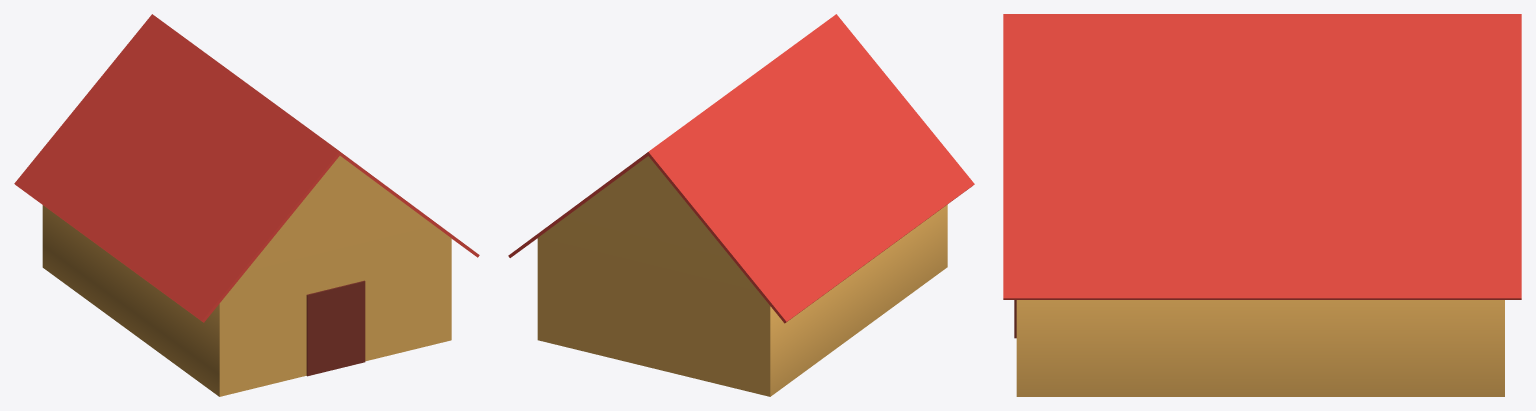
File: Building.fbx
3 renders of one model, left to right at view 1: azimuth 30°, elevation 25°; view 2: azimuth 150°, elevation 25°; view 3: azimuth 270°, elevation 25°, orthographic. The views are drawn at different scales.
Parts seen in each view (by area): view 1: Cube.001, Cube, Cube.003, Cube.002; view 2: Cube.001, Cube, Cube.002; view 3: Cube.002, Cube, Cube.001.
Boxes of the visible parts, bbox=[...] form: Cube.001: bbox=[14, 14, 341, 322]; Cube: bbox=[42, 156, 451, 396]; Cube.003: bbox=[306, 280, 365, 376]; Cube.002: bbox=[340, 153, 479, 257]; Cube.001: bbox=[646, 14, 974, 323]; Cube: bbox=[537, 156, 947, 396]; Cube.002: bbox=[508, 153, 647, 257]; Cube.002: bbox=[1003, 17, 1521, 299]; Cube: bbox=[1016, 300, 1504, 396]; Cube.001: bbox=[1003, 14, 1521, 17].
Size of the model in its own units: 718 by 545 by 841.
